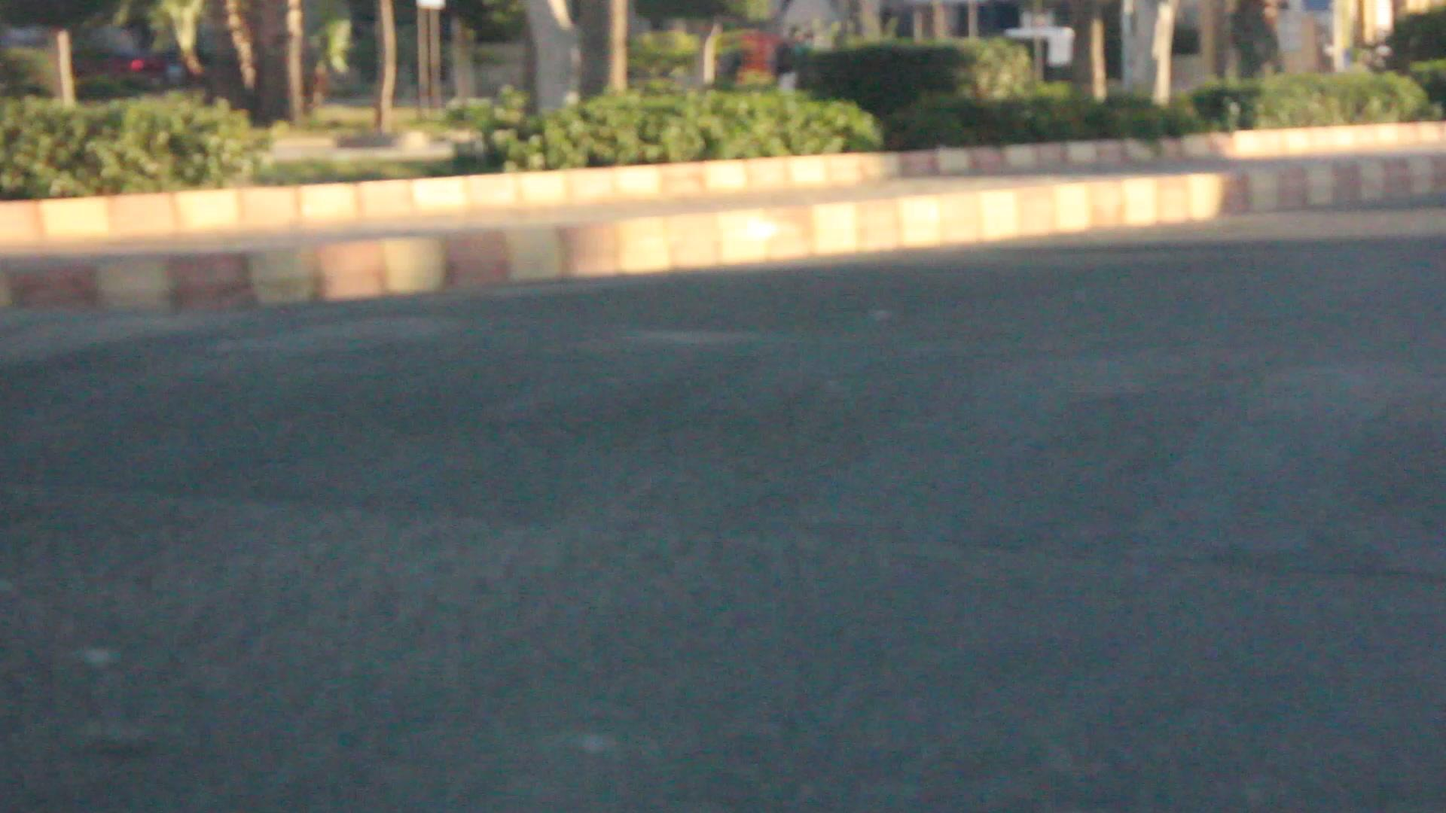Bump: (41, 309, 1446, 570)
